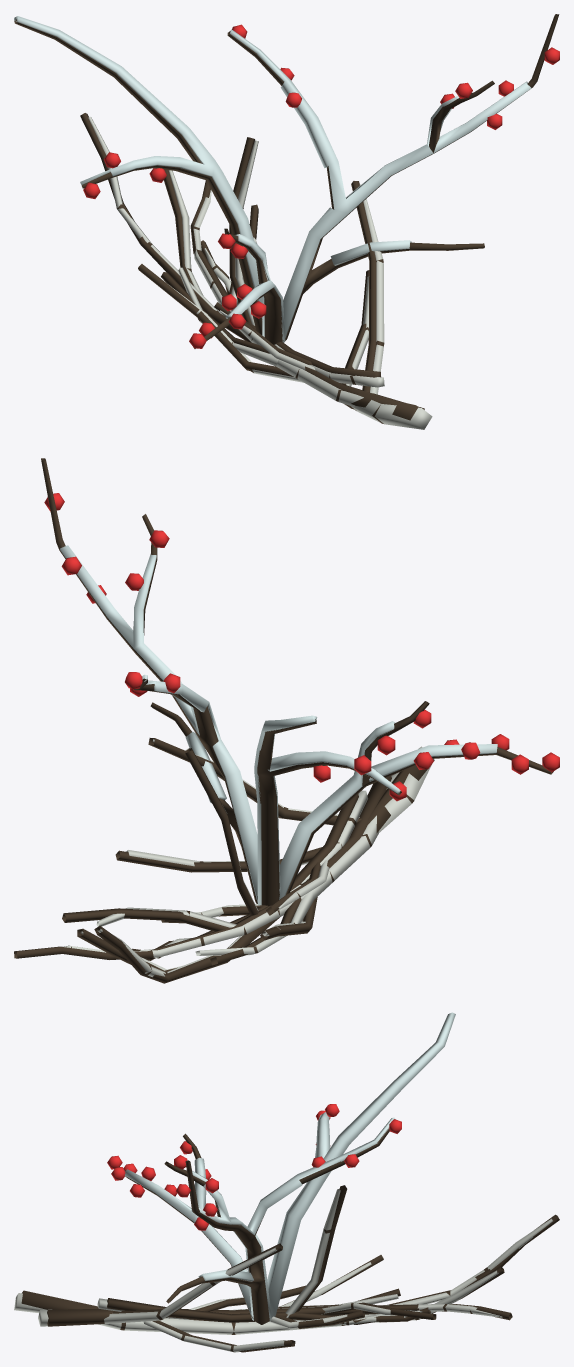
Rendered from arctic_branches.fbx.
The picture shows the model from 3 angles, top to bottom: view 1: azimuth 30°, elevation 25°; view 2: azimuth 150°, elevation 25°; view 3: azimuth 270°, elevation 25°; orthographic projection. The views are drawn at different scales.
Visible parts, largest first — view 1: arctic_shrub_snow, arctic_shrub, arctic_branch_06, arctic_branch_03, arctic_shrub_berries, arctic_branch_01, arctic_branch_04, arctic_branch_02, arctic_branch_05; view 2: arctic_shrub_snow, arctic_shrub, arctic_branch_06, arctic_branch_04, arctic_branch_01, arctic_shrub_berries, arctic_branch_05, arctic_branch_03, arctic_branch_02; view 3: arctic_shrub_snow, arctic_branch_03, arctic_shrub, arctic_branch_04, arctic_branch_05, arctic_branch_06, arctic_branch_01, arctic_shrub_berries, arctic_branch_02.
Boxes of the visible parts, box(x1,y1,x2,y2) form: arctic_shrub_snow: box(14, 16, 531, 342); arctic_shrub: box(14, 14, 559, 348); arctic_branch_06: box(80, 113, 418, 420); arctic_branch_03: box(88, 116, 432, 429); arctic_shrub_berries: box(83, 24, 559, 348); arctic_branch_01: box(178, 190, 369, 406); arctic_branch_04: box(161, 180, 424, 409); arctic_branch_02: box(204, 248, 384, 387); arctic_branch_05: box(201, 240, 380, 377); arctic_shrub_snow: box(60, 545, 497, 905); arctic_shrub: box(41, 458, 553, 905); arctic_branch_06: box(77, 738, 434, 983); arctic_branch_04: box(14, 776, 391, 965); arctic_branch_01: box(62, 773, 398, 957); arctic_shrub_berries: box(44, 493, 559, 801); arctic_branch_05: box(132, 794, 358, 960); arctic_branch_03: box(80, 739, 434, 977); arctic_branch_02: box(140, 790, 367, 958); arctic_shrub_snow: box(125, 1012, 455, 1320); arctic_branch_03: box(14, 1189, 552, 1334); arctic_shrub: box(119, 1128, 389, 1324); arctic_branch_04: box(47, 1288, 512, 1352); arctic_branch_05: box(107, 1285, 430, 1328); arctic_branch_06: box(21, 1185, 559, 1321); arctic_branch_01: box(38, 1294, 502, 1352); arctic_shrub_berries: box(107, 1104, 401, 1230); arctic_branch_02: box(97, 1289, 419, 1329).
Bounding box in the file's own units: 1.33 × 0.991 × 1.76.
